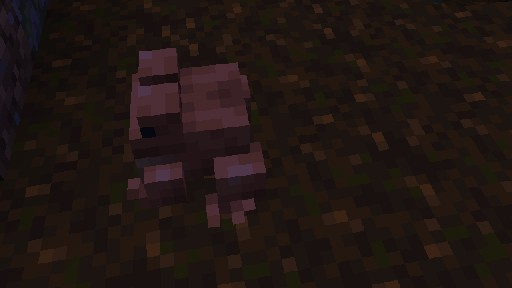frog: (126, 46, 266, 228)
